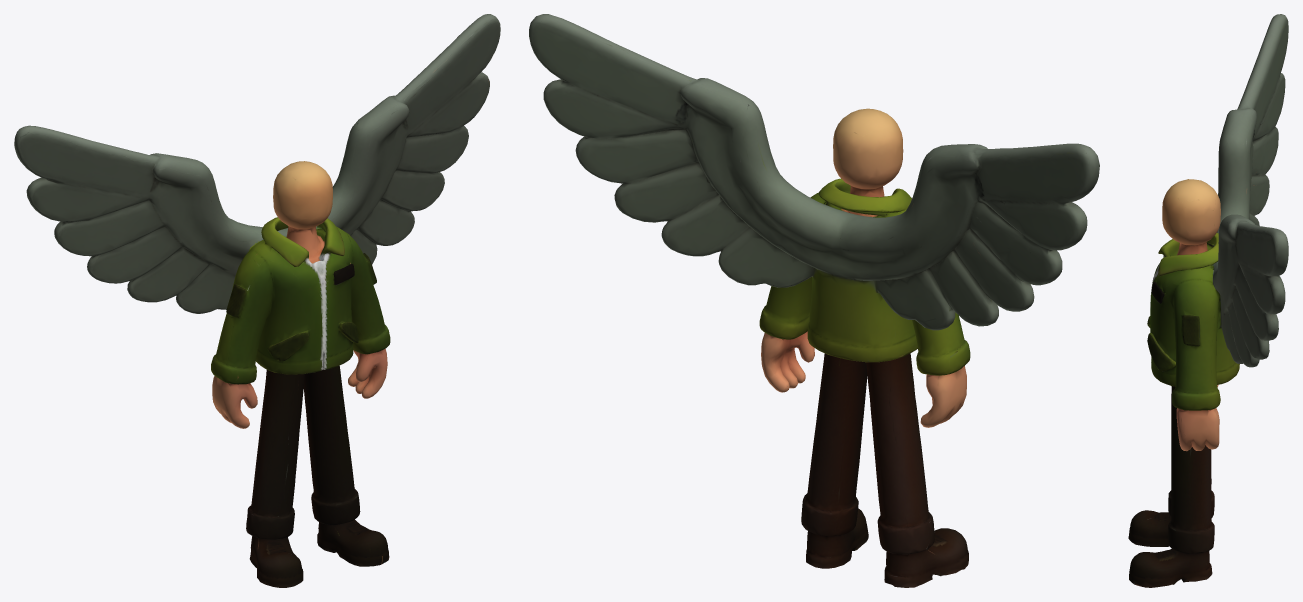
The model's file is player.glb.
3 renders of one model, left to right at view 1: azimuth 30°, elevation 25°; view 2: azimuth 150°, elevation 25°; view 3: azimuth 270°, elevation 25°, orthographic. The views are drawn at different scales.
Visible parts, largest first — view 1: world; view 2: world; view 3: world.
Part boxes in pixels (<box>): world: <box>14,14,500,587</box>; world: <box>529,14,1099,587</box>; world: <box>1128,14,1288,587</box>.
Size of the model in its own units: 0.8685 by 0.7719 by 0.2572.
Materials: 1 (1 with a texture image).
